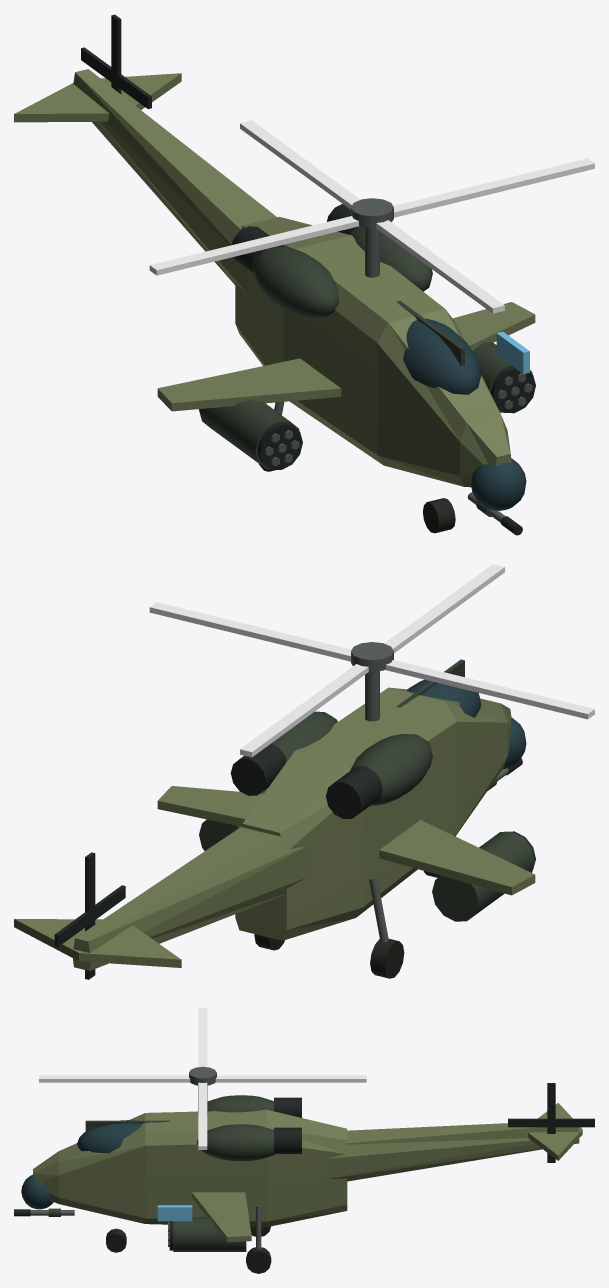
The model's file is casHeli.glb.
3 renders of one model, top to bottom at view 1: azimuth 30°, elevation 25°; view 2: azimuth 150°, elevation 25°; view 3: azimuth 270°, elevation 25°, orthographic. The views are drawn at different scales.
Parts seen in each view (by area): view 1: armor, equipment (×6), glass, marking; view 2: armor, equipment (×6), glass; view 3: armor, equipment (×6), glass, marking.
Boxes of the visible parts, <box> form: armor: <box>14,69,535,487</box>; equipment (×6): <box>81,14,594,533</box>; glass: <box>403,318,526,510</box>; marking: <box>496,331,529,374</box>; armor: <box>14,687,535,970</box>; equipment (×6): <box>54,564,594,979</box>; glass: <box>406,676,526,769</box>; armor: <box>33,1103,582,1242</box>; equipment (×6): <box>14,1008,594,1273</box>; glass: <box>21,1120,141,1209</box>; marking: <box>157,1205,192,1221</box>.
Bounding box in the file's own units: 4.7 × 2.86 × 8.34.
